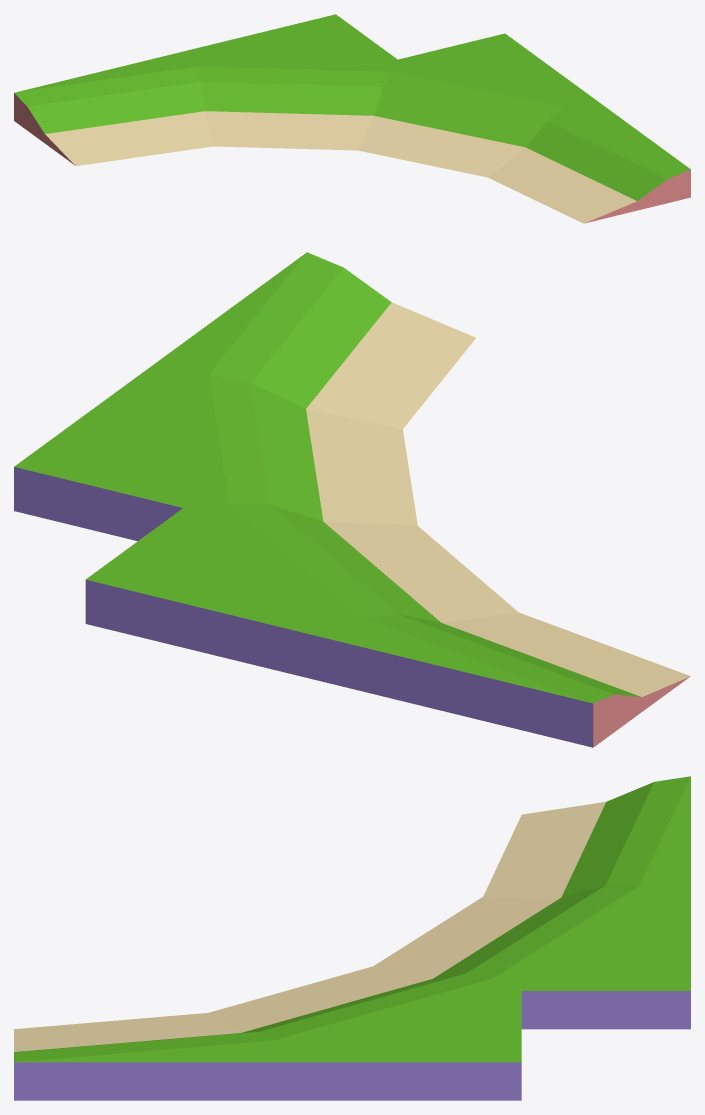
Rendered from Path_Terrain_Basic_Curve_Inner_4x4.glb.
The picture shows the model from 3 angles, top to bottom: view 1: azimuth 30°, elevation 25°; view 2: azimuth 150°, elevation 25°; view 3: azimuth 270°, elevation 25°; orthographic projection. The views are drawn at different scales.
Visible parts, largest first — view 1: Path_Terrain_Basic_Curve_Inner_4x4; view 2: Path_Terrain_Basic_Curve_Inner_4x4; view 3: Path_Terrain_Basic_Curve_Inner_4x4.
Part boxes in pixels (x1,y1,x2,y2): Path_Terrain_Basic_Curve_Inner_4x4: (14,14,690,223); Path_Terrain_Basic_Curve_Inner_4x4: (14,252,690,747); Path_Terrain_Basic_Curve_Inner_4x4: (14,776,690,1100).
Bounding box in the file's own units: 400 × 25 × 400.
